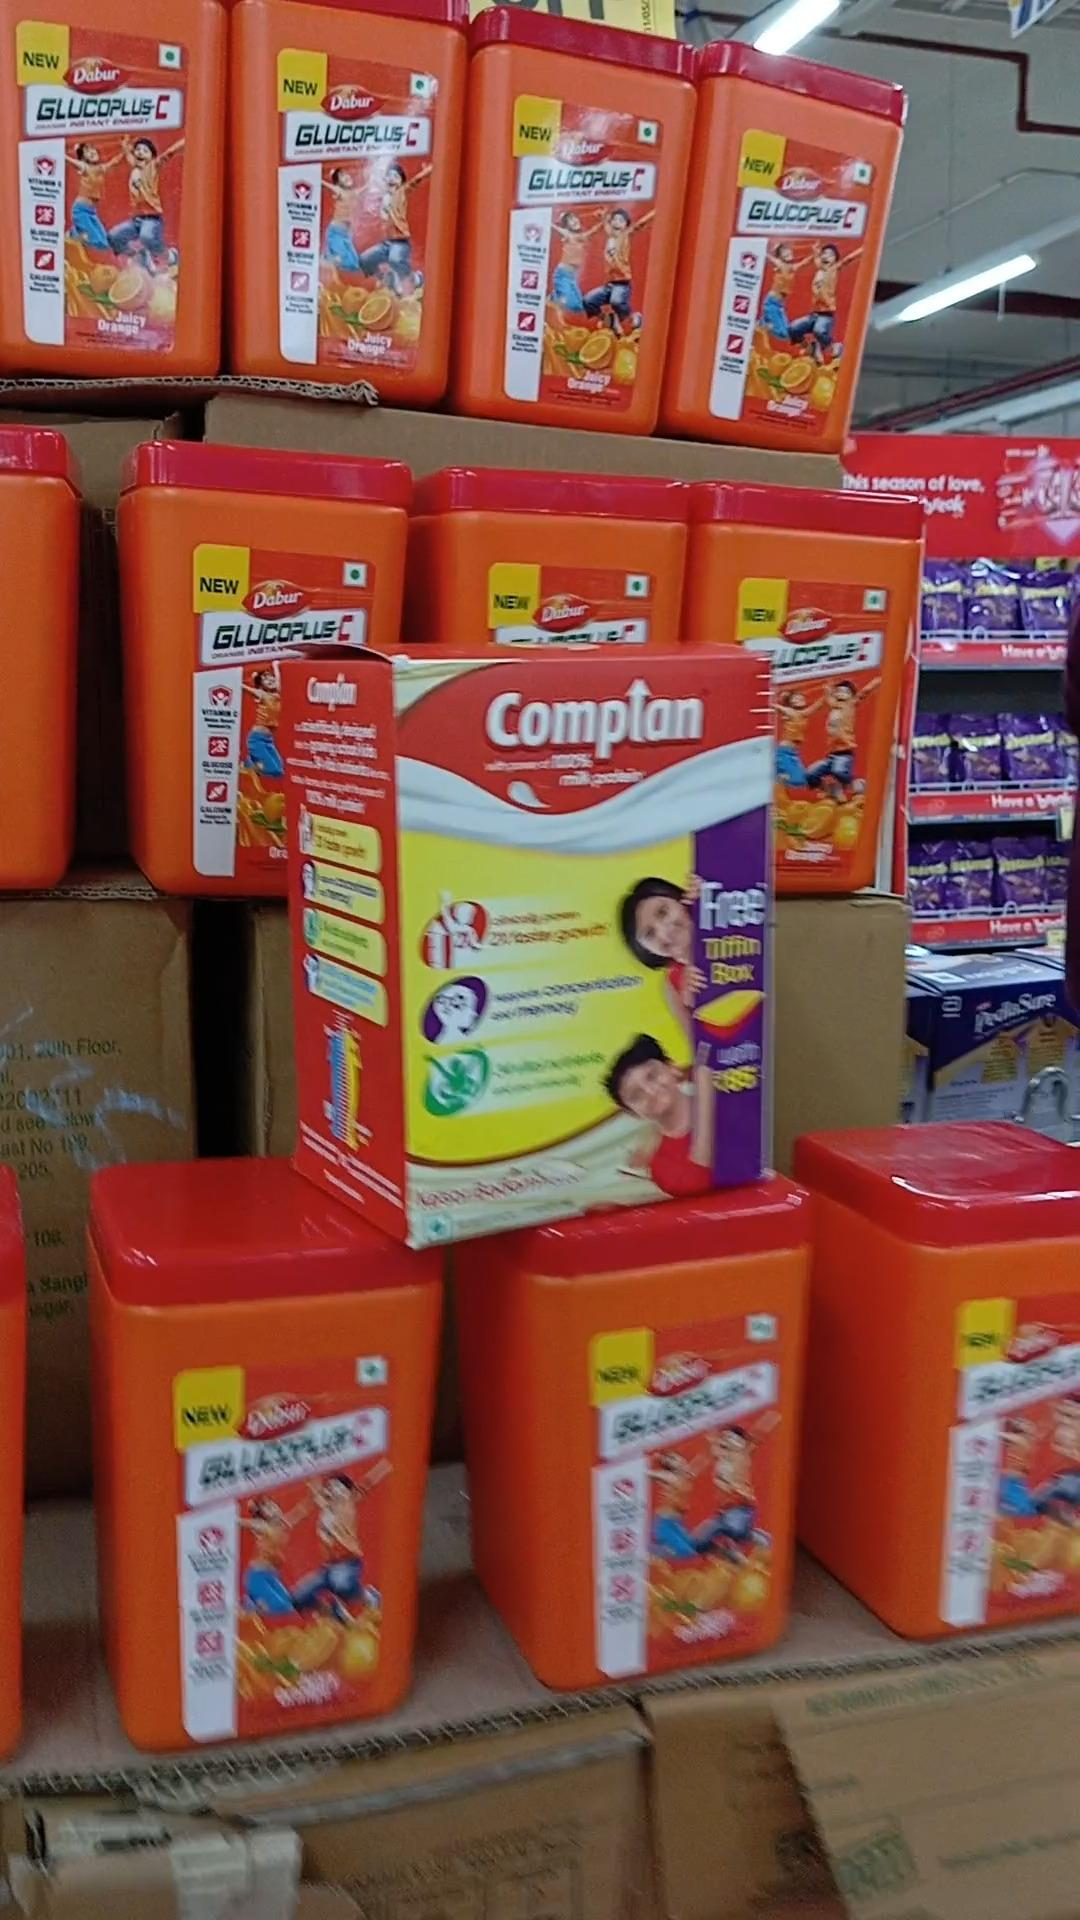COMPLAN_KESAR_BADAM_500_GMS_PACK: (390, 658, 783, 1241)
